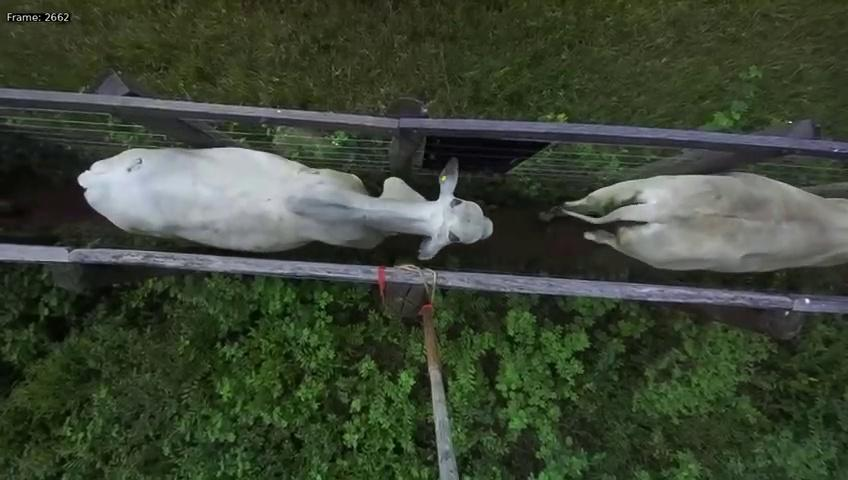cattle: (74, 140, 494, 261)
